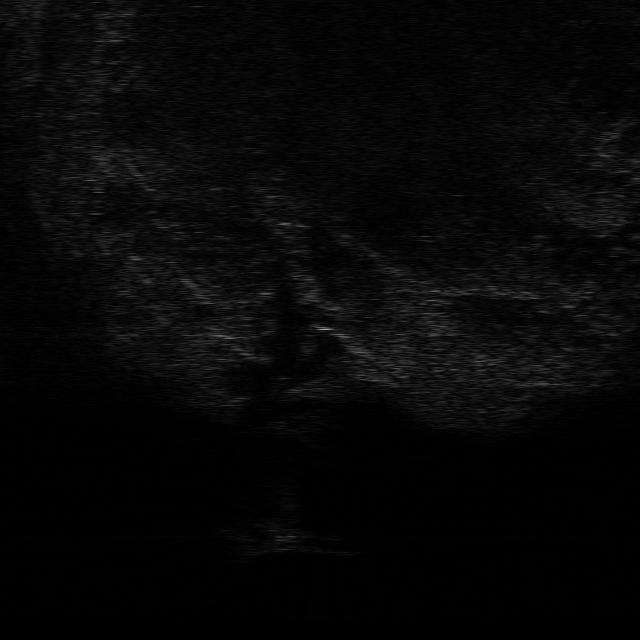plane: (216, 520, 349, 557)
